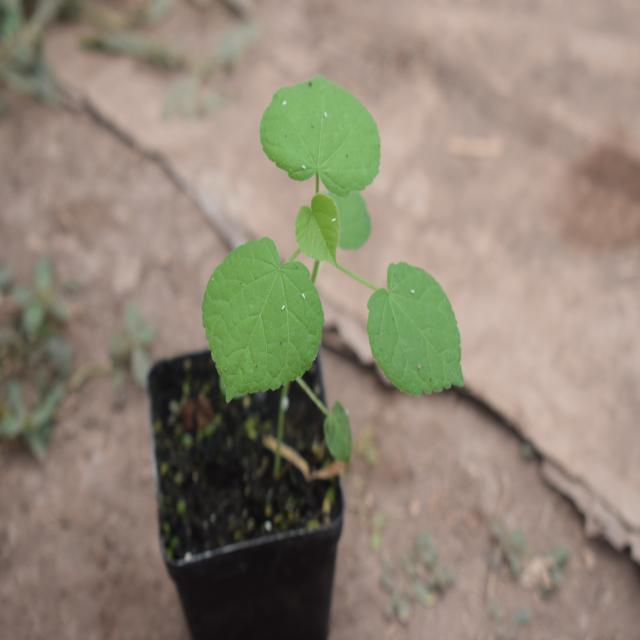abutilon theophrasti: (173, 54, 468, 412)
